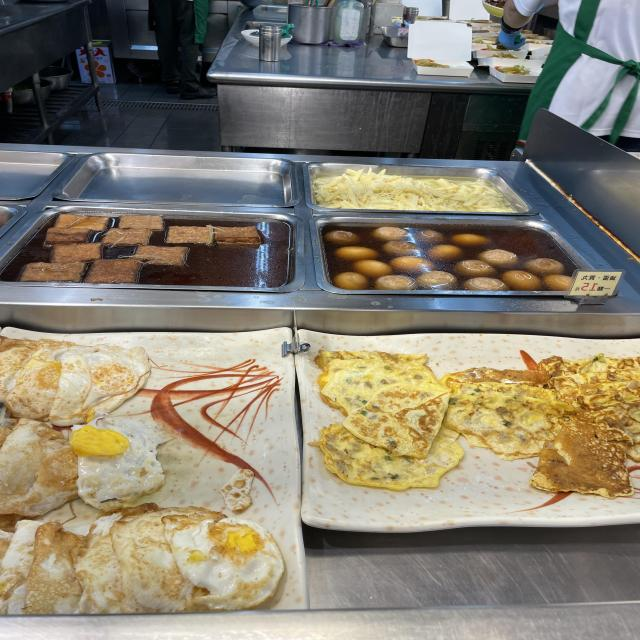braised egg: (338, 230, 536, 286)
